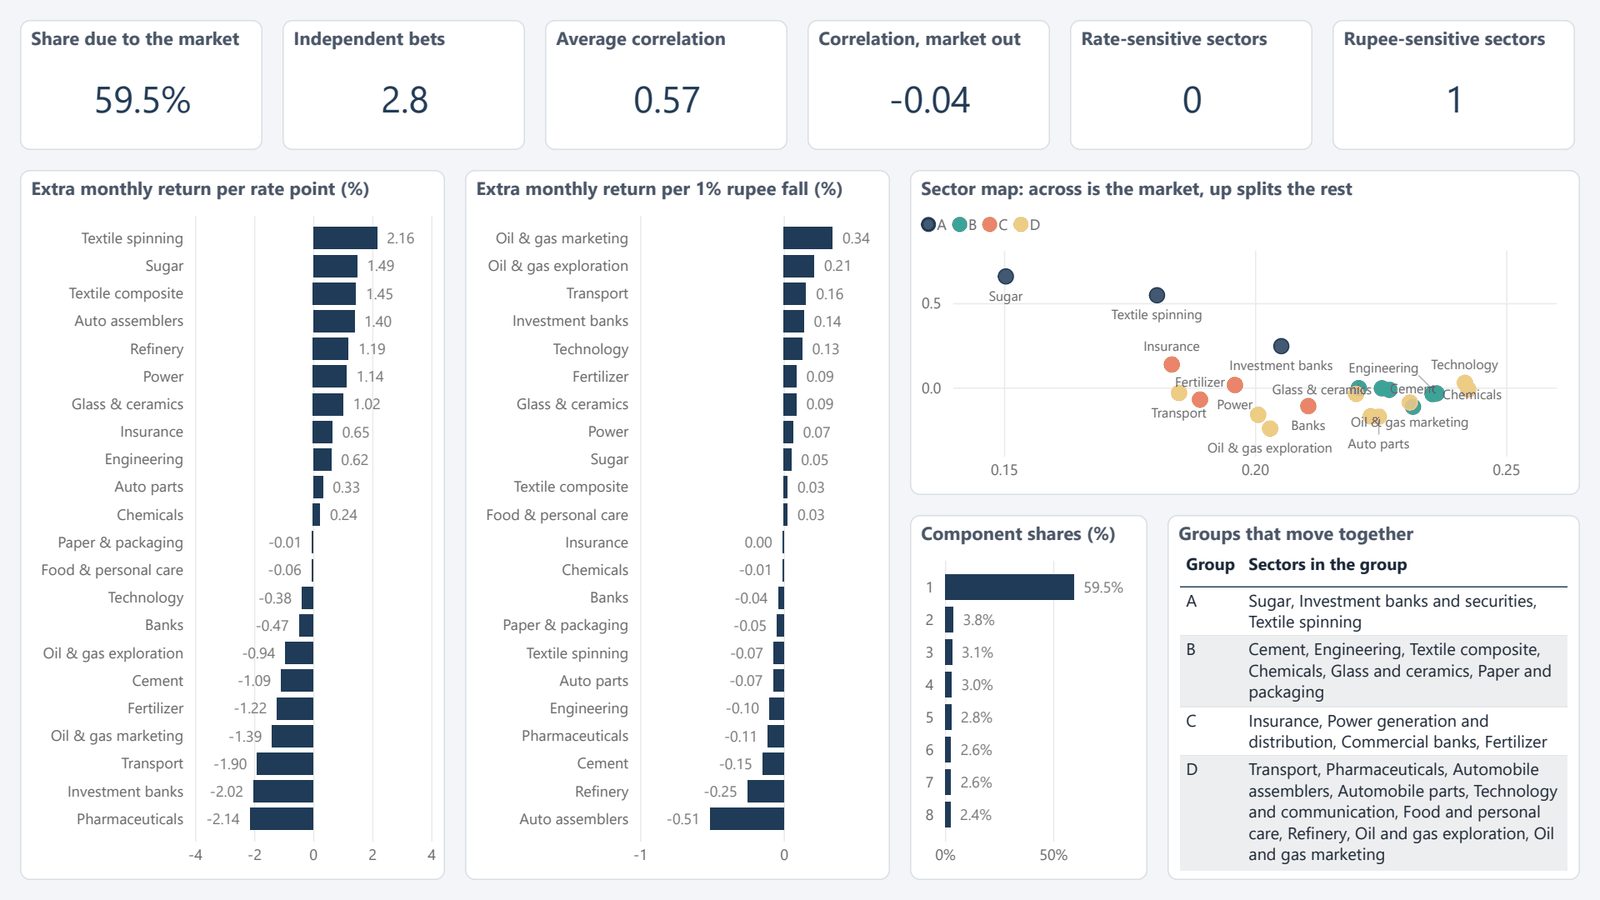

Layout of this report page (visuals, bound fields, positions):
{"tool":"powerbi","page":{"name":"What moves them","canvas":[1280,720],"ordinal":6},"visuals":[{"type":"card","title":"Share due to the market","fields":{"Values":["_Measures.Market Share of Variation"]},"box":[16,16,194,104],"z":0},{"type":"card","title":"Independent bets","fields":{"Values":["_Measures.Effective Bets"]},"box":[226,16,194,104],"z":1000},{"type":"card","title":"Average correlation","fields":{"Values":["_Measures.Average Correlation"]},"box":[436,16,194,104],"z":2000},{"type":"card","title":"Correlation, market out","fields":{"Values":["_Measures.Average Correlation Without Market"]},"box":[646,16,194,104],"z":3000},{"type":"card","title":"Rate-sensitive sectors","fields":{"Values":["_Measures.Sectors Reacting to Rates"]},"box":[856,16,194,104],"z":4000},{"type":"card","title":"Rupee-sensitive sectors","fields":{"Values":["_Measures.Sectors Reacting to the Rupee"]},"box":[1066,16,194,104],"z":5000},{"type":"clusteredBarChart","title":"Extra monthly return per rate point (%)","fields":{"Category":["sectors.short_name"],"Y":["_Measures.Rate Effect"]},"box":[16,136,340,568],"z":6000},{"type":"clusteredBarChart","title":"Extra monthly return per 1% rupee fall (%)","fields":{"Category":["sectors.short_name"],"Y":["_Measures.Rupee Effect"]},"box":[372,136,340,568],"z":7000},{"type":"scatterChart","title":"Sector map: across is the market, up splits the rest","fields":{"Category":["sectors.short_name"],"X":["_Measures.Component 1 Loading"],"Y":["_Measures.Component 2 Loading"],"Series":["sectors.group_letter"]},"box":[728,136,536,260],"z":8000},{"type":"clusteredBarChart","title":"Component shares (%)","fields":{"Category":["components.component"],"Y":["_Measures.Component Share"]},"box":[728,412,190,292],"z":9000},{"type":"tableEx","title":"Groups that move together","fields":{"Values":["groups.group_letter","groups.sectors"]},"box":[934,412,330,292],"z":10000}]}

Visuals, with their boxes in screenshot pixels (x1, y1, x2, y2), scaled from the page's 1280x720 canvas onto the 1600x900 screenshot:
"Share due to the market" card: 20:20:262:150
"Independent bets" card: 282:20:525:150
"Average correlation" card: 545:20:788:150
"Correlation, market out" card: 808:20:1050:150
"Rate-sensitive sectors" card: 1070:20:1312:150
"Rupee-sensitive sectors" card: 1332:20:1575:150
"Extra monthly return per rate point (%)" clusteredBarChart: 20:170:445:880
"Extra monthly return per 1% rupee fall (%)" clusteredBarChart: 465:170:890:880
"Sector map: across is the market, up splits the rest" scatterChart: 910:170:1580:495
"Component shares (%)" clusteredBarChart: 910:515:1148:880
"Groups that move together" tableEx: 1168:515:1580:880
